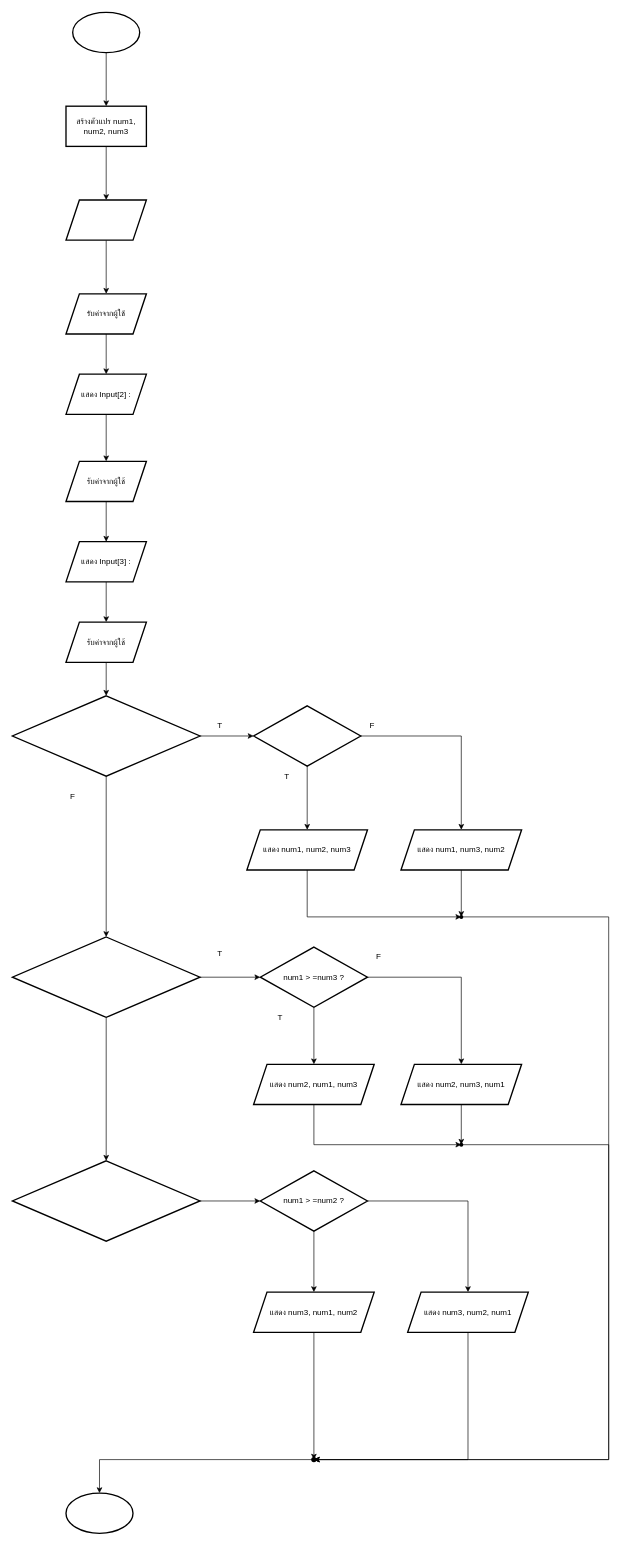
This 626x1545 diagram has some shape labels left out. Each missing label, with the centre of its shape:
end: point (99, 1513)
num1 >= num 2 และ num1 >= num3 ?: point (105, 736)
num2 > =num3 ?: point (307, 735)
num2 >= num1 และ num2 >= num3 ?: point (105, 977)
num3 >= num1 และ num3 >= num2 ?: point (105, 1201)
start: point (106, 32)
แสดง Input[1] :: point (106, 220)
